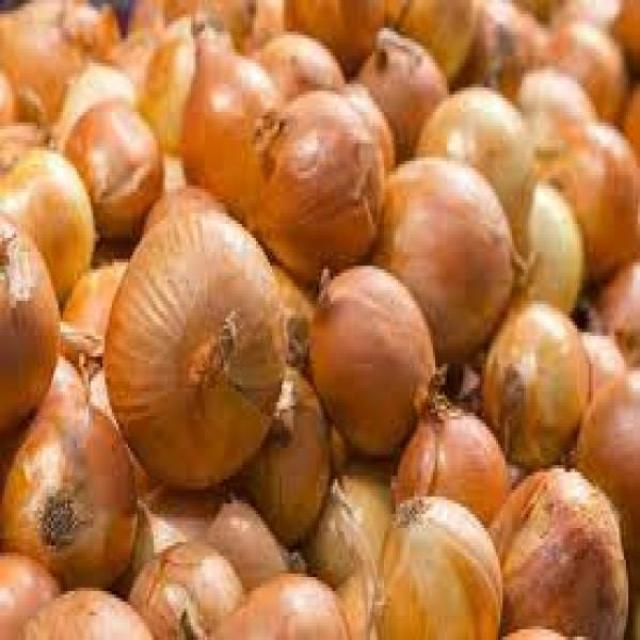Onion: (89, 207, 285, 483), (217, 88, 393, 274), (0, 396, 162, 584), (284, 266, 427, 450), (342, 498, 501, 640), (0, 215, 70, 442), (481, 310, 583, 449), (196, 566, 346, 640)
